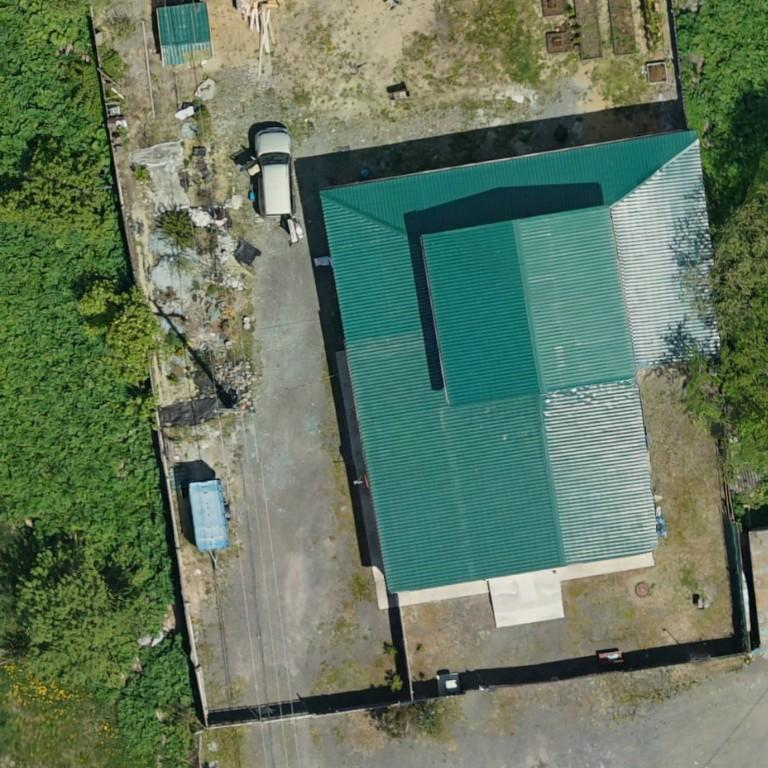hogweed: (0, 221, 176, 602), (676, 0, 767, 174), (115, 632, 193, 757)
